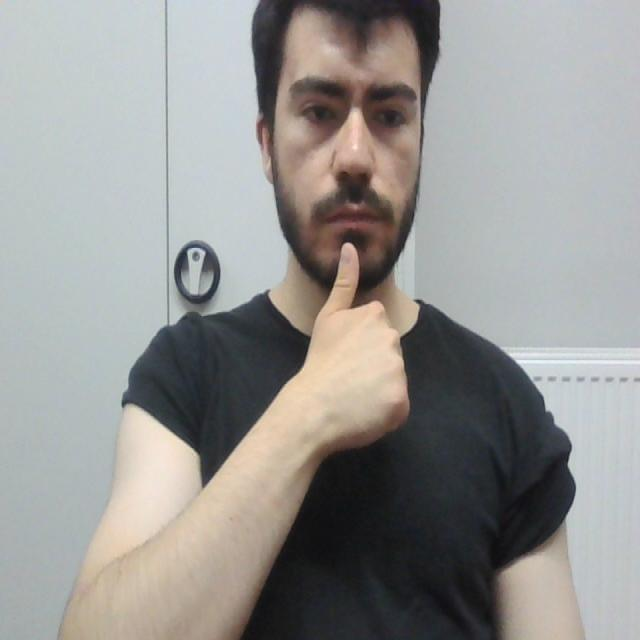Baba: (312, 185, 392, 304)
